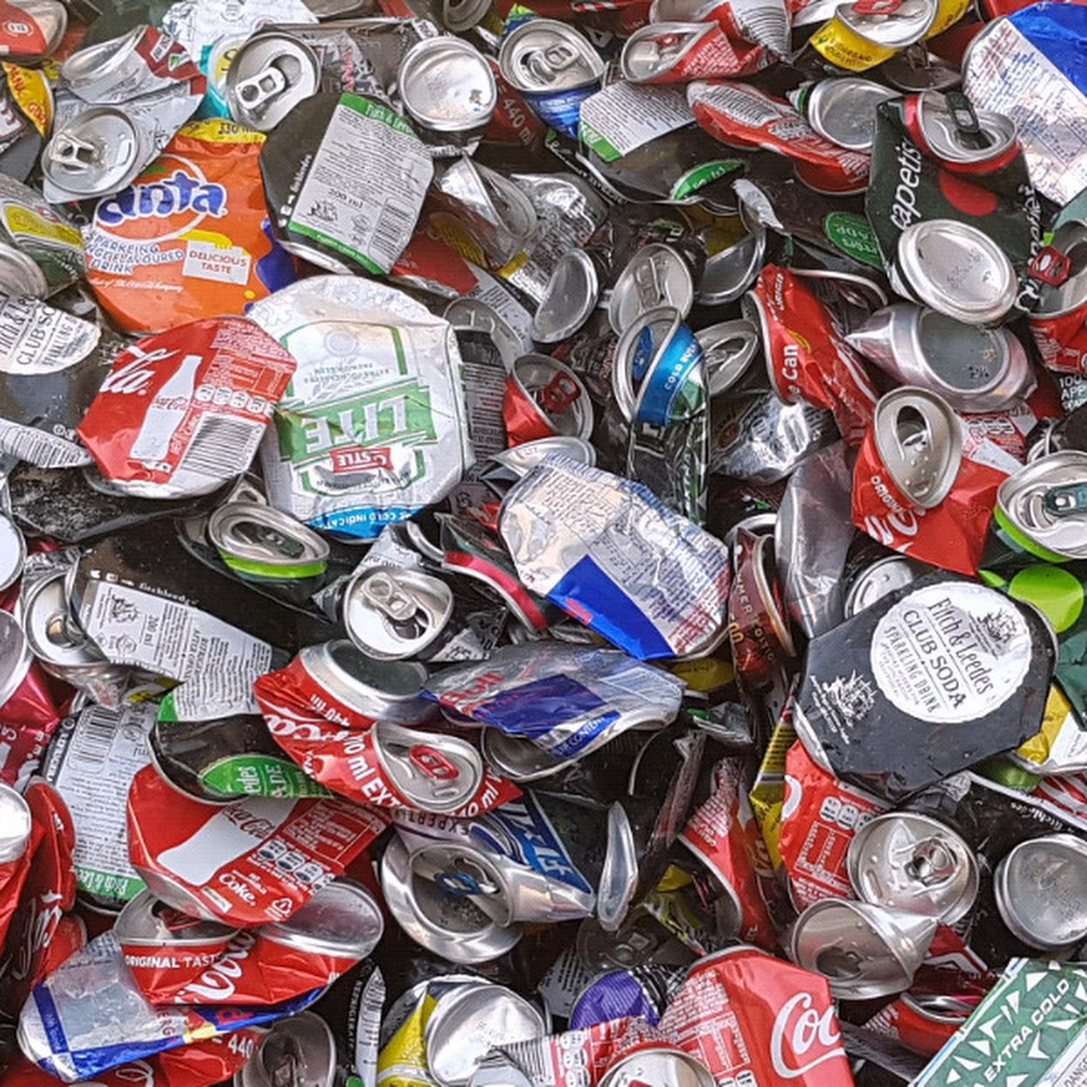metal: (213, 271, 471, 553), (752, 566, 1068, 793), (481, 455, 746, 652), (240, 58, 462, 289), (240, 641, 479, 828), (657, 940, 863, 1087)
